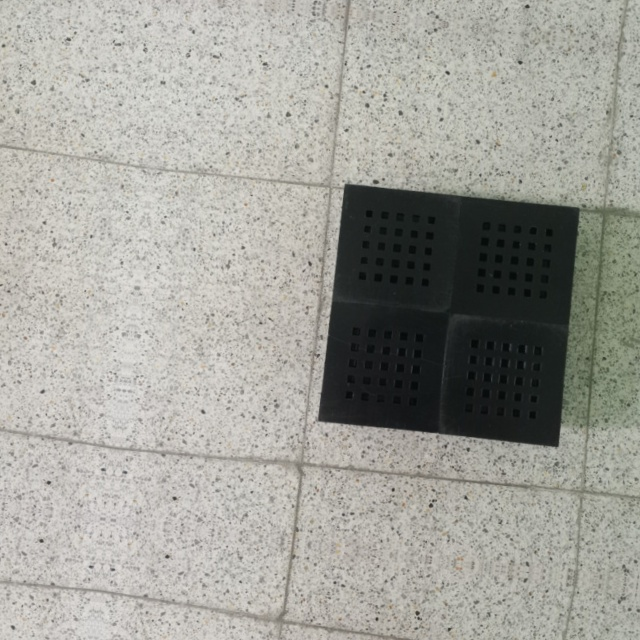pallet: (312, 178, 581, 449)
